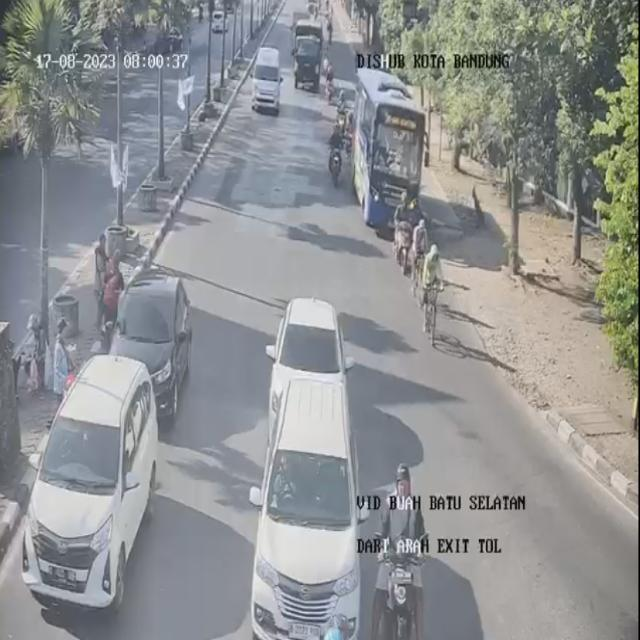bus: (354, 64, 427, 243)
cars: (27, 352, 156, 608), (248, 378, 358, 640), (114, 264, 192, 413), (266, 294, 344, 434), (290, 11, 326, 93), (253, 46, 287, 118)
motorcycle: (372, 461, 431, 640), (421, 242, 448, 342), (391, 190, 414, 277), (411, 215, 431, 288), (328, 116, 345, 188)
